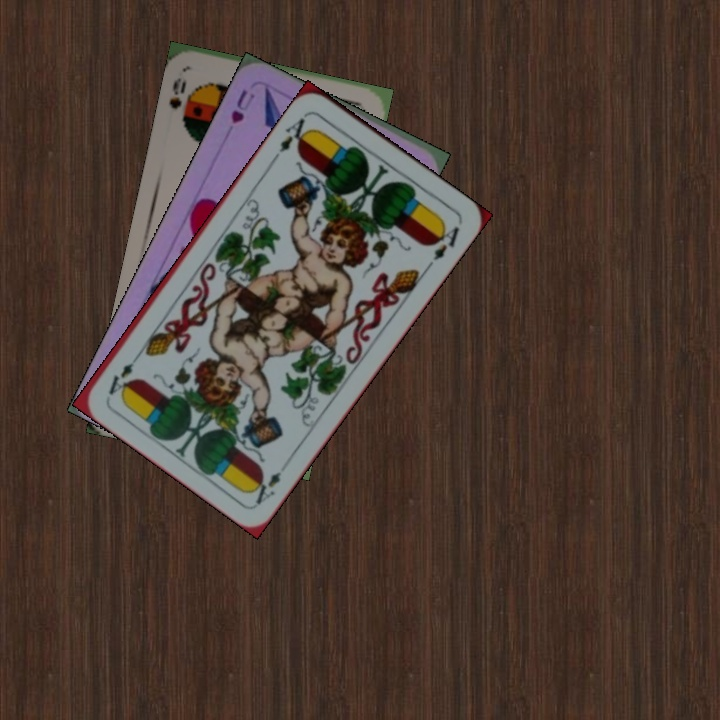EA: (270, 110, 313, 162), (247, 467, 285, 507)
HU: (227, 86, 258, 127)
SO: (165, 73, 189, 112)
